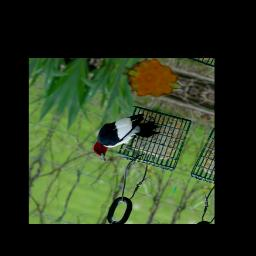Woodpecker: (89, 104, 167, 173)
